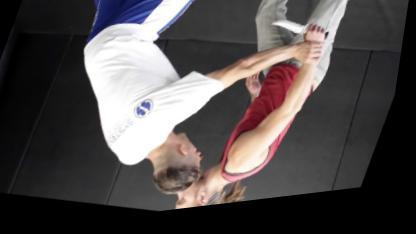knife: (260, 15, 340, 61)
